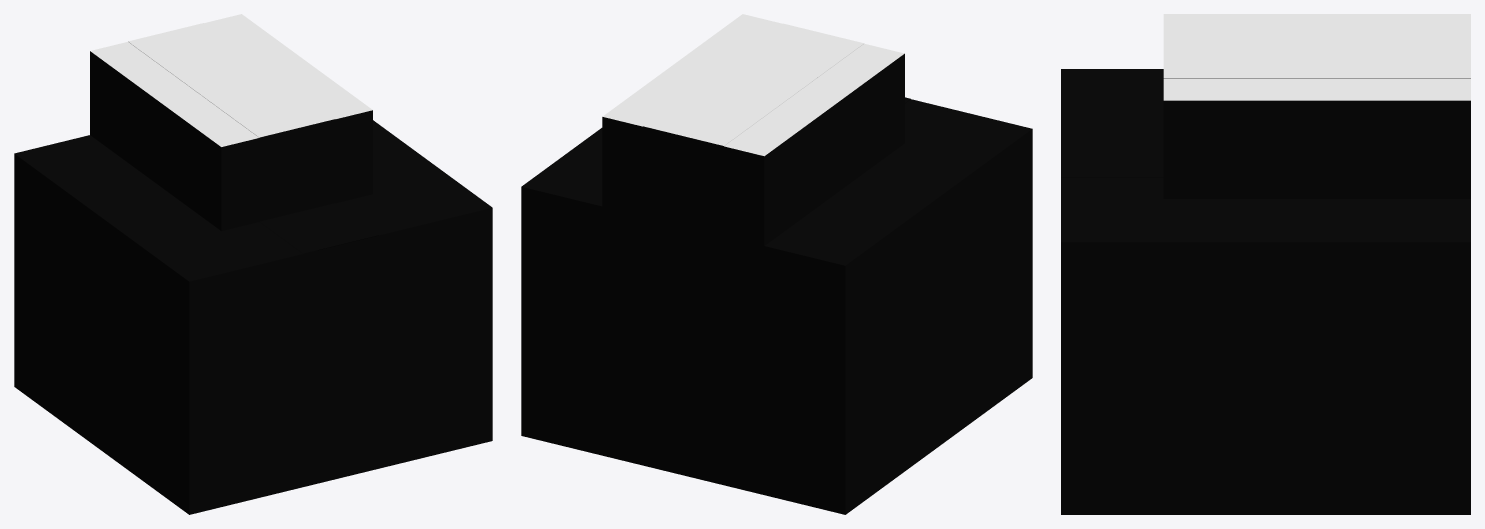
Rendered from dead_end.glb.
The picture shows the model from 3 angles, left to right: view 1: azimuth 30°, elevation 25°; view 2: azimuth 150°, elevation 25°; view 3: azimuth 270°, elevation 25°; orthographic projection. The views are drawn at different scales.
Visible parts, largest first — view 1: room; view 2: room; view 3: room.
Part boxes in pixels (x1,y1,x2,y2): room: [14, 14, 492, 514]; room: [521, 14, 1032, 514]; room: [1061, 14, 1470, 514].
Bounding box in the file's own units: 2 × 2 × 2.
Materials: 1 (1 with a texture image).
